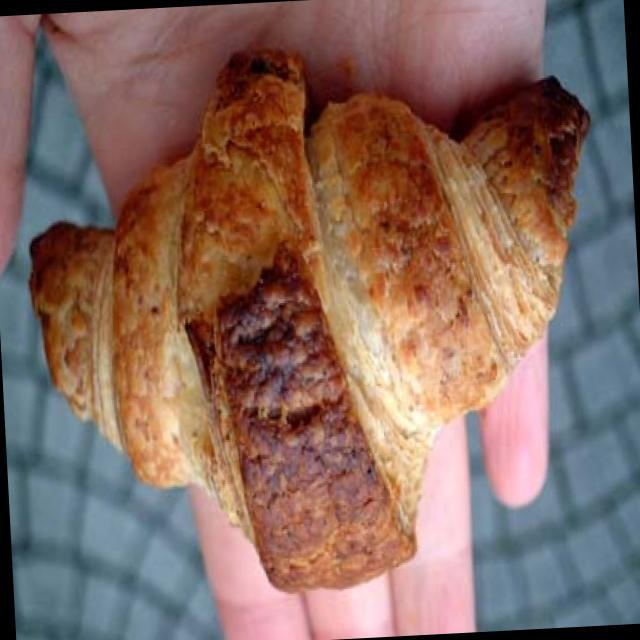Croissant: (11, 42, 624, 616)
